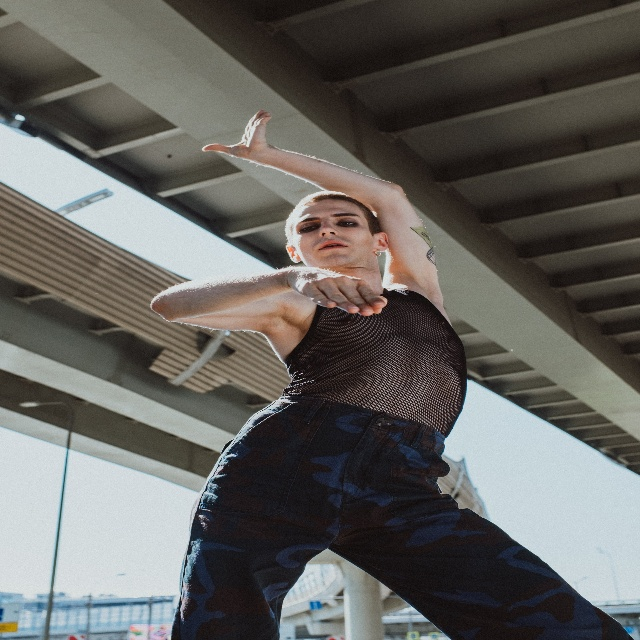Sin_guantes: (291, 265, 390, 321), (201, 112, 275, 155)
